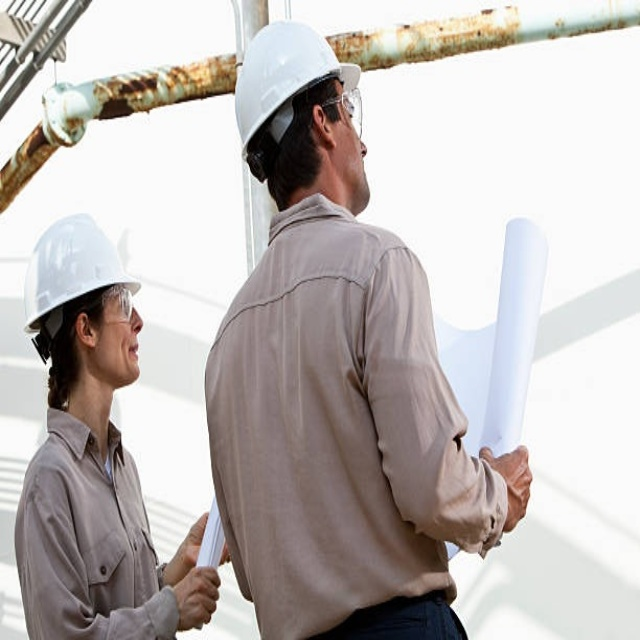Gafas: (321, 85, 362, 133), (92, 282, 136, 326)
Sin_guantes: (481, 443, 534, 542), (173, 567, 221, 632)
Sin_mascara: (116, 333, 140, 380), (352, 147, 370, 196)
